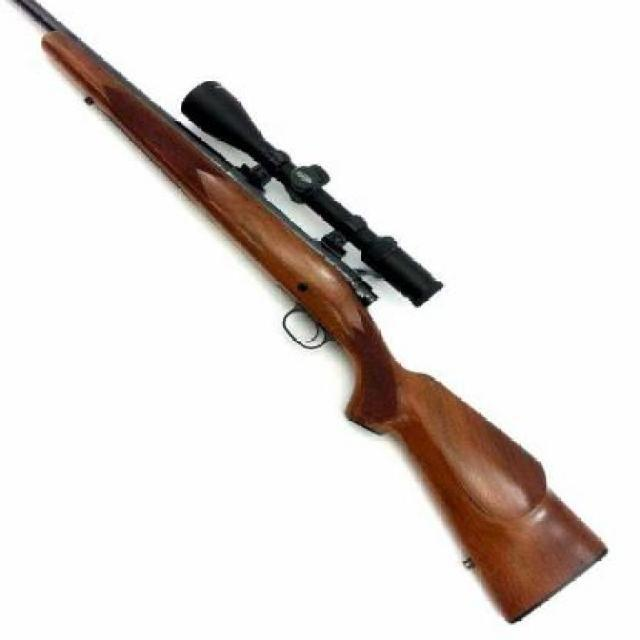weapon: (12, 0, 607, 624)
